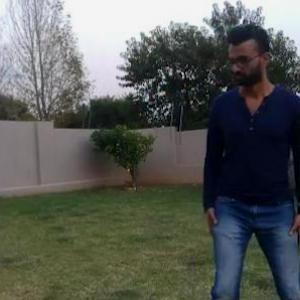follow: (187, 6, 298, 299)
